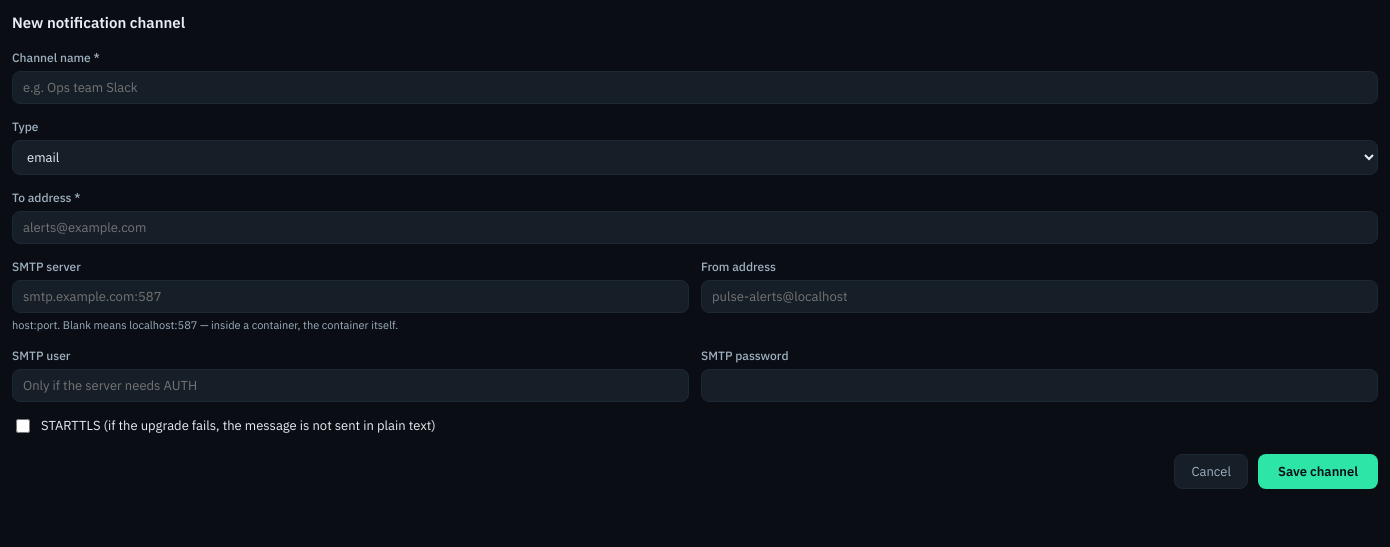
Test: AlertChannelForm › (c) validation — empty name shows Name is required error
Click the button "Save channel": (1318, 472) 1258,454 -> 1378,489
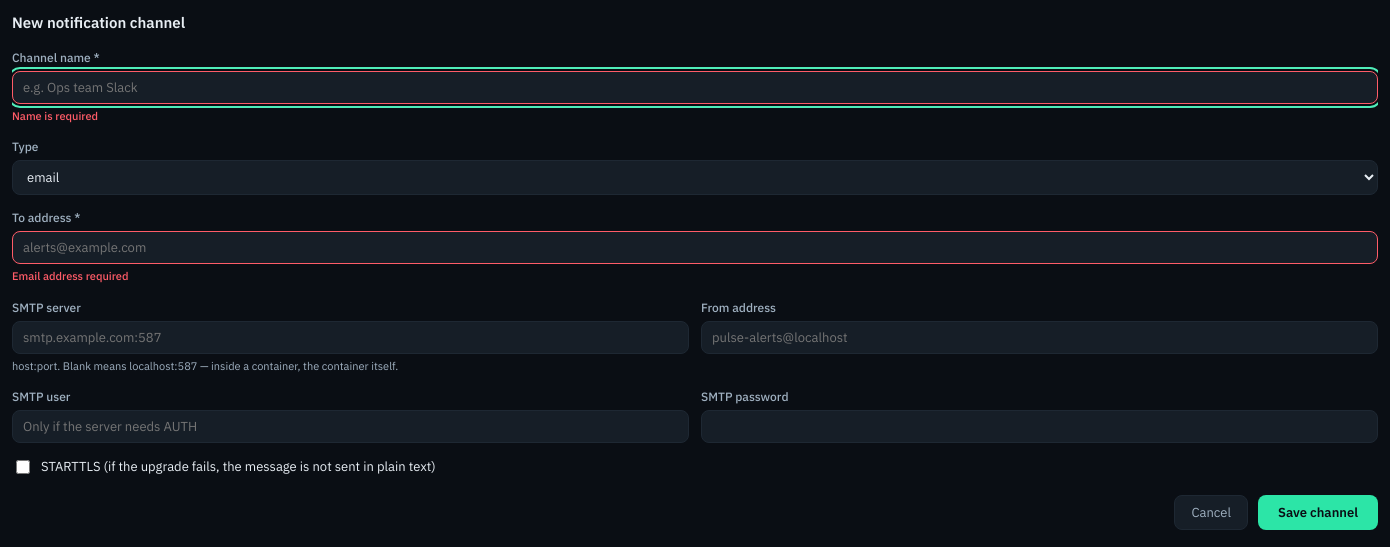
expect the text "Name is required" is shown: met, box 12,108 -> 98,122
